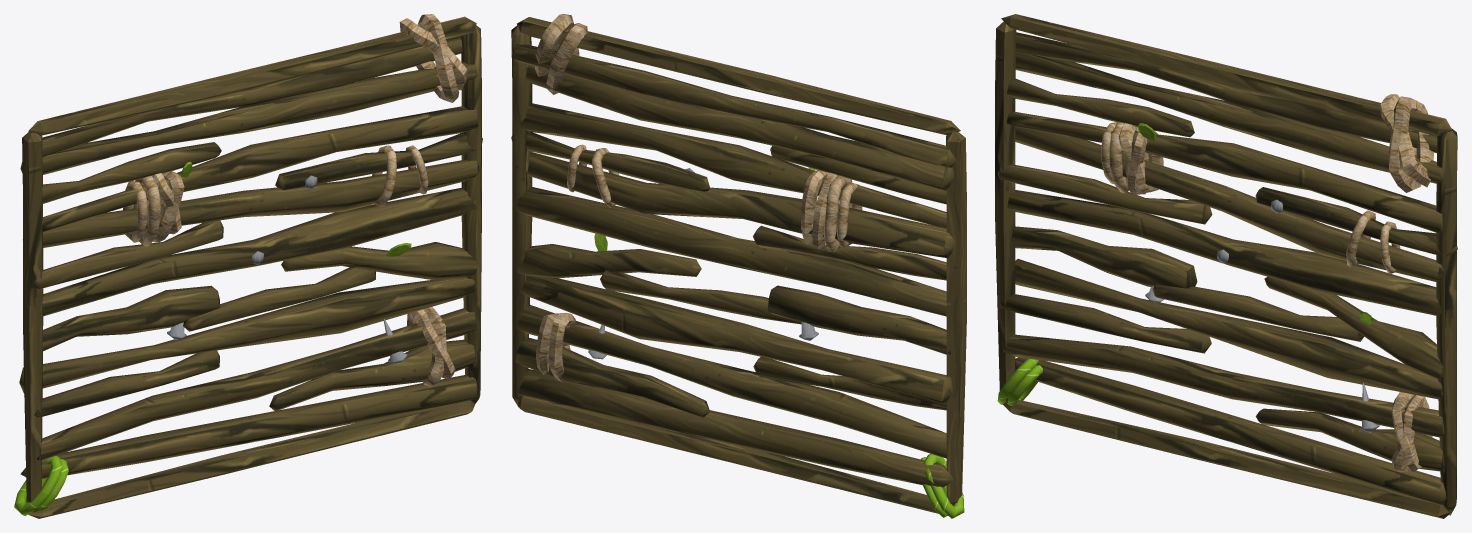
The model's file is Wall1_2_b.FBX.
3 renders of one model, left to right at view 1: azimuth 30°, elevation 25°; view 2: azimuth 150°, elevation 25°; view 3: azimuth 330°, elevation 25°, orthographic.
Parts seen in each view (by area): view 1: Wall004; view 2: Wall004; view 3: Wall004.
Boxes of the visible parts, x1=… form: Wall004: x1=14, y1=14, x2=482, y2=518; Wall004: x1=511, y1=14, x2=966, y2=518; Wall004: x1=995, y1=14, x2=1457, y2=518.
Bounding box in the file's own units: 6.09 × 5.2 × 0.7491.
